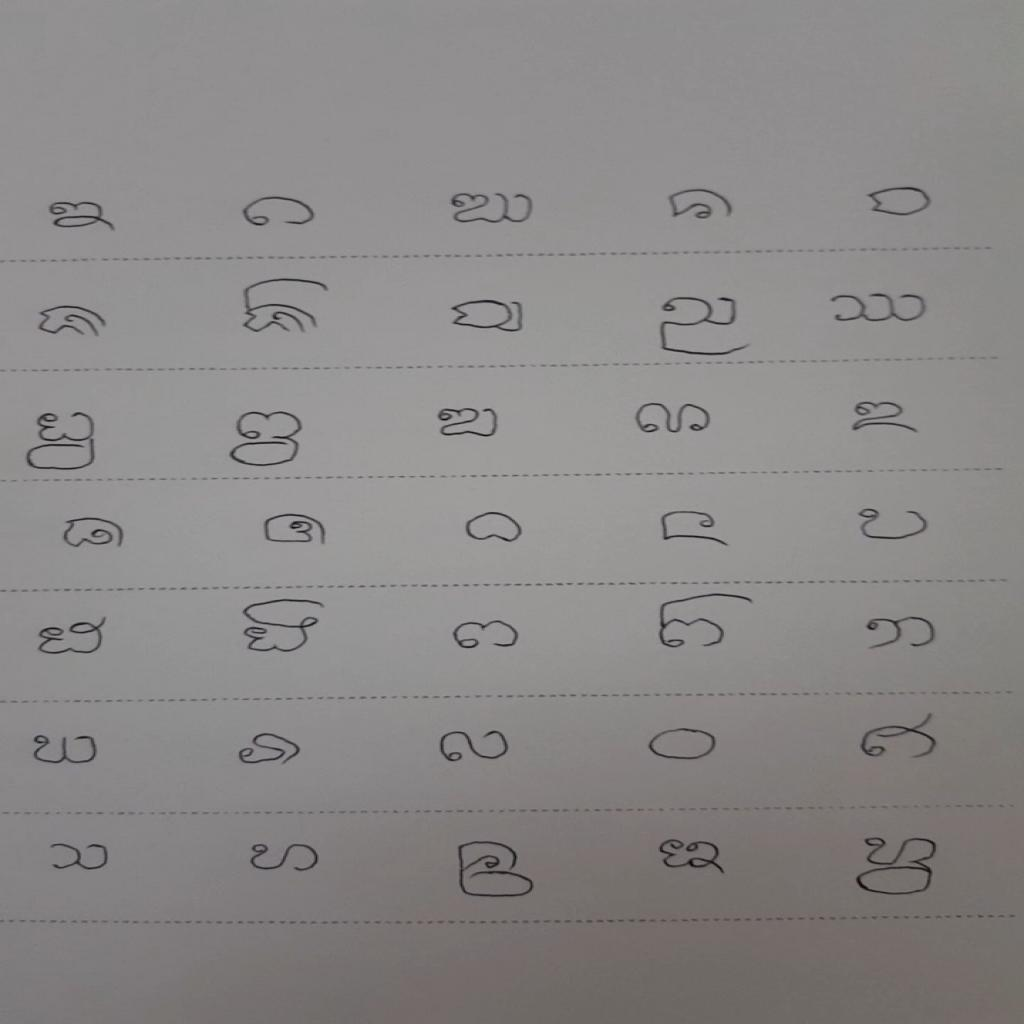LN002: (44, 199, 126, 236)
LN003: (237, 196, 321, 232)
LN004: (446, 190, 538, 228)
LN005: (662, 187, 739, 224)
LN006: (863, 185, 937, 220)
LN008: (34, 304, 110, 342)
LN009: (237, 276, 335, 338)
LN010: (448, 298, 530, 336)
LN011: (656, 296, 758, 360)
LN012: (826, 291, 932, 327)
LN014: (23, 410, 102, 474)
LN015: (226, 410, 310, 470)
LN016: (433, 406, 505, 441)
LN017: (632, 400, 718, 436)
LN018: (845, 400, 923, 436)
LN020: (59, 515, 132, 552)
LN021: (261, 512, 334, 548)
LN022: (461, 510, 530, 547)
LN023: (657, 508, 737, 549)
LN024: (855, 506, 935, 544)
LN026: (35, 615, 113, 659)
LN027: (240, 598, 330, 656)
LN028: (451, 619, 526, 653)
LN029: (655, 592, 759, 652)
LN030: (862, 615, 942, 652)
LN032: (29, 732, 102, 768)
LN033: (233, 731, 307, 769)
LN034: (434, 729, 513, 765)
LN035: (645, 726, 722, 764)
LN036: (856, 710, 942, 762)
LN038: (44, 842, 113, 874)
LN039: (244, 842, 324, 876)
LN040: (454, 839, 541, 901)
LN041: (655, 836, 732, 878)
LN042: (853, 835, 943, 899)
